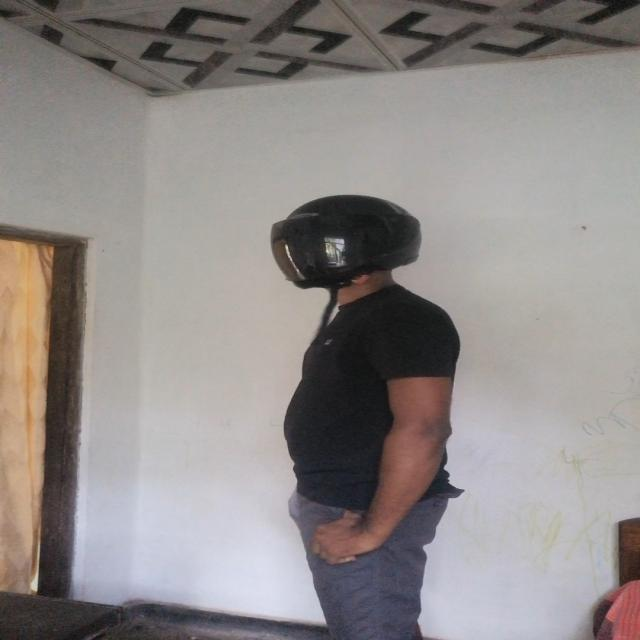Helmet_Wearer: (256, 188, 437, 308)
Person: (253, 183, 460, 631)
